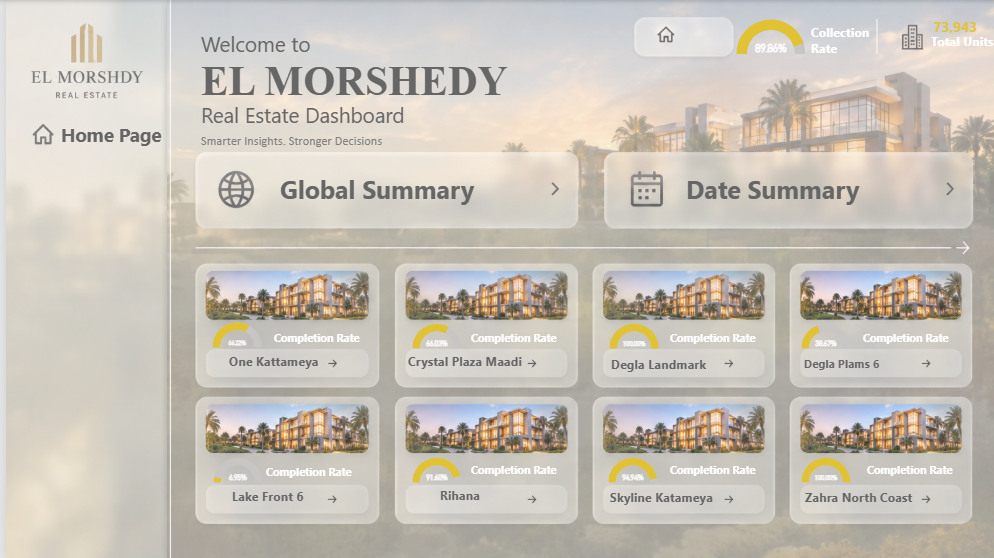

What the dashboard file says about the page in this screenshot:
{"tool":"powerbi","page":{"name":"Home Page","canvas":[1280,720],"ordinal":0},"visuals":[{"type":"textbox","box":[1031.2,631.2,192.5,23.8],"z":0},{"type":"textbox","box":[1111.1,596.7,140,32.9],"z":1000},{"type":"gauge","fields":{"Y":["Zahra North Coast Overall Measures.Completion Rate Zahra North Coast"]},"box":[1010,568.6,95,77],"z":2000},{"type":"textbox","box":[779,631,206,44],"z":3000},{"type":"gauge","fields":{"Y":["Skyline Katamya Compound Overall Measures.Completion Rate Skyline Katamya Compound"]},"box":[761.1,568.9,95,77],"z":4000},{"type":"textbox","box":[856.7,596.7,140,32.9],"z":5000},{"type":"textbox","box":[560,629,80,44.3],"z":6000},{"type":"textbox","box":[600,596.7,140,32.9],"z":7000},{"type":"gauge","fields":{"Y":["Rihana Overall Measures.Completion Rate Rihana"]},"box":[508.6,568.6,95,77],"z":8000},{"type":"textbox","box":[345.7,425.7,140,32.9],"z":9000},{"type":"gauge","fields":{"Y":["Lake Front 6 Overall.Completion Rate Lake Front 6"]},"box":[252.2,568.9,95,77],"z":10000},{"type":"textbox","box":[1105.6,425.6,124.4,33.3],"z":11000},{"type":"gauge","fields":{"Y":["Degla Palms 6 October Compound Overall Measures.Completion Rate"]},"box":[1010,396.2,95,77],"z":12000},{"type":"gauge","fields":{"Y":["Degla Landmark Overall Measures.Completion Rate Degla Landmark"]},"box":[762.2,395.6,95.7,77.1],"z":13000},{"type":"textbox","box":[856.7,425.6,140,32.9],"z":14000},{"type":"textbox","box":[600,425.7,140,32.9],"z":15000},{"type":"gauge","fields":{"Y":["Crystal Plaza Maadi Compound Overall Measures.Completion Rate Crystal Plaza Maadi Compound"]},"box":[508.6,395.7,95,77],"z":16000},{"type":"gauge","fields":{"Y":["One Kattameya Overall Measures.Completion Rate OK"]},"box":[250.4,395.1,96,76.5],"z":17000},{"type":"textbox","box":[335.6,598.9,140,32.9],"z":18000},{"type":"textbox","box":[291,630,152,44],"z":19000},{"type":"textbox","box":[1030,458.8,193.8,25],"z":20000},{"type":"textbox","box":[780,458.8,206.2,25],"z":21000},{"type":"textbox","box":[518.6,456,182.9,44.3],"z":22000},{"type":"textbox","box":[287.1,455,188.6,44.3],"z":23000},{"type":"textbox","box":[877,221.4,372.9,77.1],"z":24000},{"type":"actionButton","box":[1011.6,512.8,238.4,153.5],"z":25000},{"type":"actionButton","box":[761.7,513.3,238.3,153.3],"z":26000},{"type":"actionButton","box":[501.7,505,238.3,168.3],"z":27000},{"type":"actionButton","box":[245,505,238.3,168.3],"z":28000},{"type":"actionButton","box":[245,341.7,238.3,153.3],"z":29000},{"type":"actionButton","box":[501.7,341.7,238.3,153.3],"z":30000},{"type":"actionButton","box":[761.7,341.7,238.3,153.3],"z":31000},{"type":"actionButton","box":[1013,341.3,238.3,153.3],"z":32000},{"type":"textbox","box":[71,157,133.7,39.5],"z":33000},{"type":"textbox","box":[251.8,38.2,242.5,57.5],"z":34000},{"type":"textbox","box":[251.8,73.6,448.2,67.3],"z":35000},{"type":"textbox","box":[252.2,130,465.6,42.2],"z":36000},{"type":"textbox","box":[252.2,172.2,322.2,35.6],"z":37000},{"type":"textbox","box":[354,221.4,314.3,57.1],"z":39000},{"type":"actionButton","box":[767.1,198.6,484.3,98.6],"z":40000},{"type":"actionButton","box":[245.7,197.1,494.3,98.6],"z":41000},{"type":"gauge","fields":{"Y":["General Measures.Collection Rate"]},"box":[926.7,1.2,120.9,94.2],"z":42000},{"type":"textbox","box":[1038.4,31.4,88.4,45.3],"z":43000},{"type":"textbox","box":[1193,42,87.2,27.9],"z":44000},{"type":"cardVisual","fields":{"Data":["General Measures.Total Units"]},"box":[1180.2,1.2,100,65.1],"z":45000},{"type":"actionButton","box":[1528,520,340,226],"z":46000}]}

Visuals, with their boxes on the page's 1280x720 design canvas (x1, y1, x2, y2). These are canvas units, not pixel positions in the 994x558 screenshot, which may show the page scaled, cropped or inside an application window:
textbox: box(1031, 631, 1224, 655)
textbox: box(1111, 597, 1251, 630)
gauge - Zahra North Coast Overall Measures.Completion Rate Zahra North Coast: box(1010, 569, 1105, 646)
textbox: box(779, 631, 985, 675)
gauge - Skyline Katamya Compound Overall Measures.Completion Rate Skyline Katamya Compound: box(761, 569, 856, 646)
textbox: box(857, 597, 997, 630)
textbox: box(560, 629, 640, 673)
textbox: box(600, 597, 740, 630)
gauge - Rihana Overall Measures.Completion Rate Rihana: box(509, 569, 604, 646)
textbox: box(346, 426, 486, 459)
gauge - Lake Front 6 Overall.Completion Rate Lake Front 6: box(252, 569, 347, 646)
textbox: box(1106, 426, 1230, 459)
gauge - Degla Palms 6 October Compound Overall Measures.Completion Rate: box(1010, 396, 1105, 473)
gauge - Degla Landmark Overall Measures.Completion Rate Degla Landmark: box(762, 396, 858, 473)
textbox: box(857, 426, 997, 458)
textbox: box(600, 426, 740, 459)
gauge - Crystal Plaza Maadi Compound Overall Measures.Completion Rate Crystal Plaza Maadi Compound: box(509, 396, 604, 473)
gauge - One Kattameya Overall Measures.Completion Rate OK: box(250, 395, 346, 472)
textbox: box(336, 599, 476, 632)
textbox: box(291, 630, 443, 674)
textbox: box(1030, 459, 1224, 484)
textbox: box(780, 459, 986, 484)
textbox: box(519, 456, 702, 500)
textbox: box(287, 455, 476, 499)
textbox: box(877, 221, 1250, 298)
actionButton: box(1012, 513, 1250, 666)
actionButton: box(762, 513, 1000, 667)
actionButton: box(502, 505, 740, 673)
actionButton: box(245, 505, 483, 673)
actionButton: box(245, 342, 483, 495)
actionButton: box(502, 342, 740, 495)
actionButton: box(762, 342, 1000, 495)
actionButton: box(1013, 341, 1251, 495)
textbox: box(71, 157, 205, 196)
textbox: box(252, 38, 494, 96)
textbox: box(252, 74, 700, 141)
textbox: box(252, 130, 718, 172)
textbox: box(252, 172, 574, 208)
textbox: box(354, 221, 668, 278)
actionButton: box(767, 199, 1251, 297)
actionButton: box(246, 197, 740, 296)
gauge - General Measures.Collection Rate: box(927, 1, 1048, 95)
textbox: box(1038, 31, 1127, 77)
textbox: box(1193, 42, 1280, 70)
cardVisual - General Measures.Total Units: box(1180, 1, 1280, 66)
actionButton: box(1528, 520, 1868, 746)
